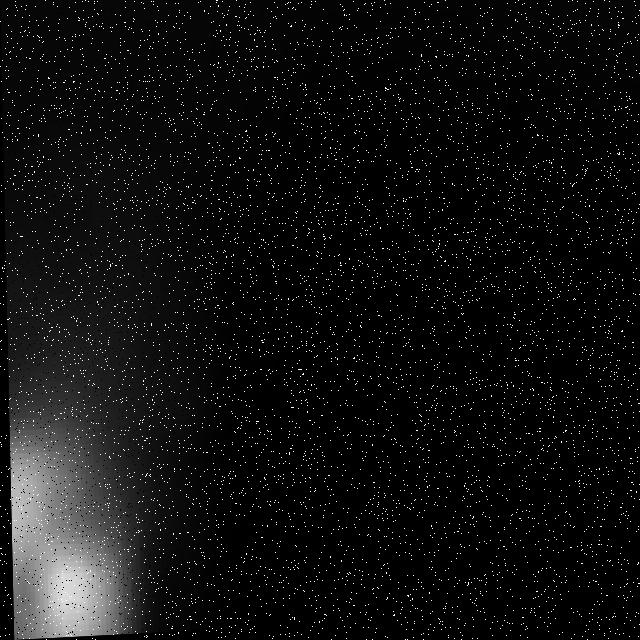person: (6, 303, 161, 640)
